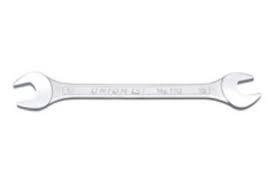wrench: (11, 69, 263, 111)
